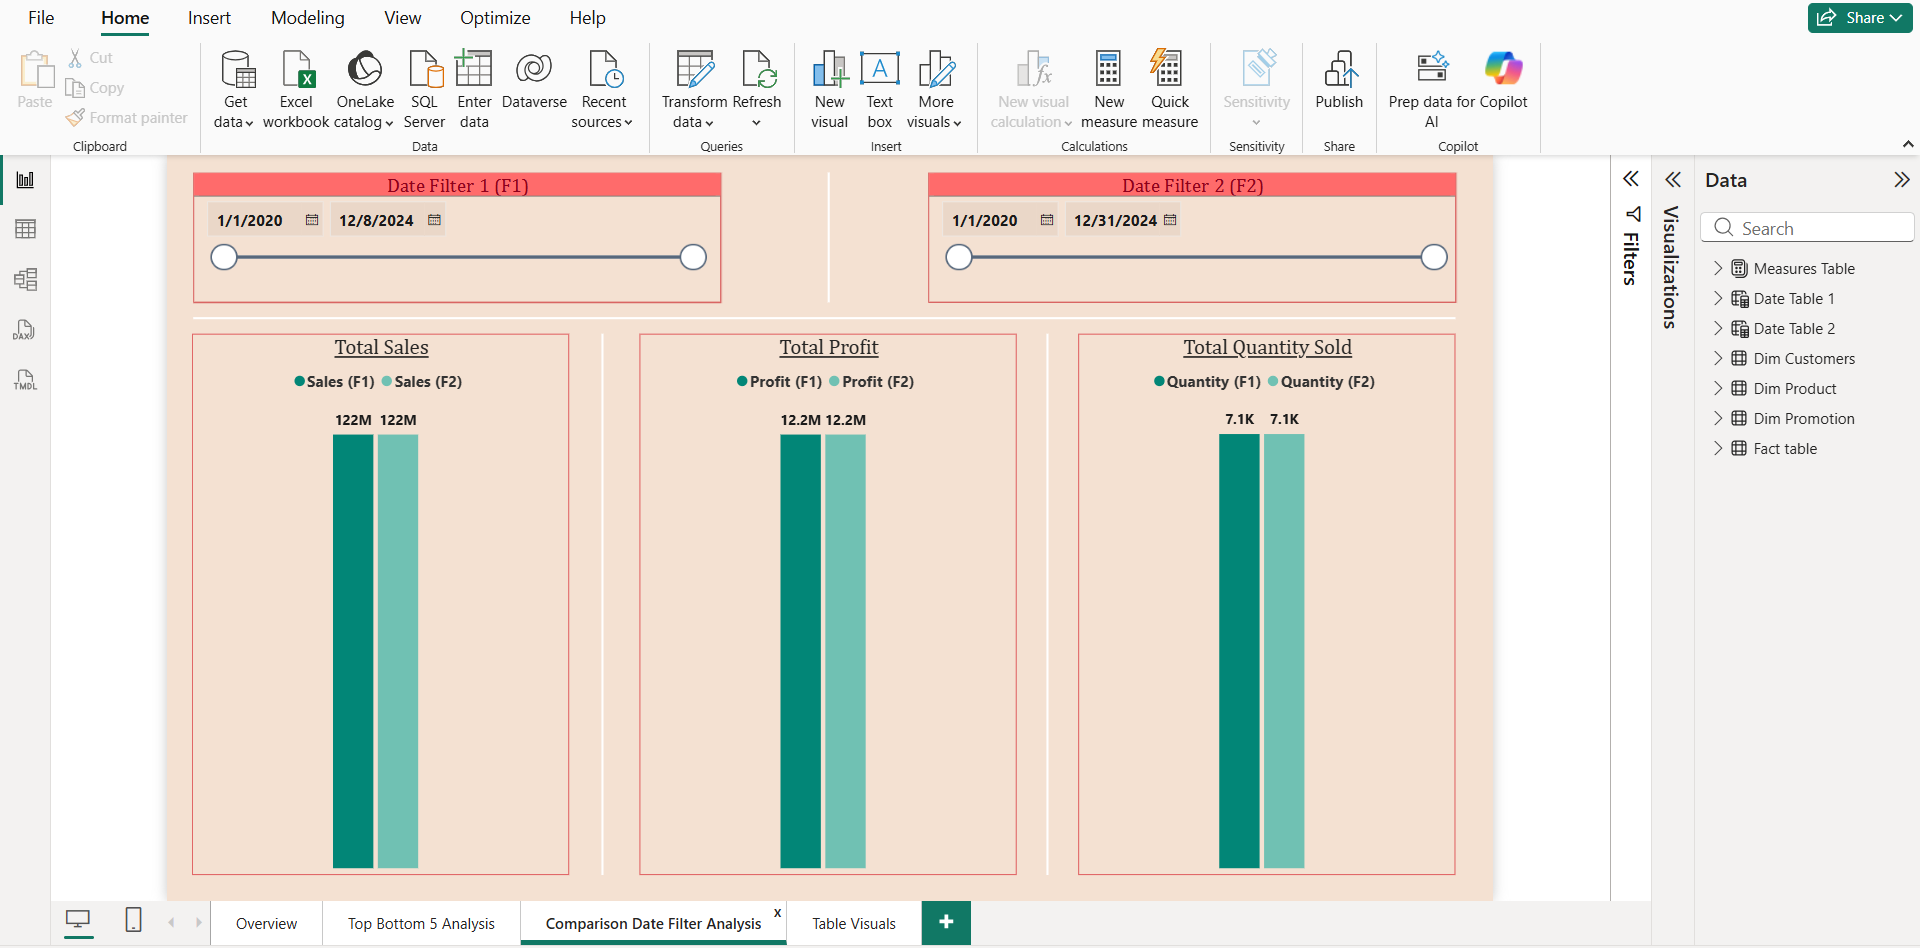

This screenshot's page, from the dashboard's own definition file:
{"tool":"powerbi","page":{"name":"Comparison Date Filter Analysis","canvas":[1280,720],"ordinal":2},"visuals":[{"type":"slicer","title":"Date Filter 2 (F2)","fields":{"Values":["Date Table 2.Date"]},"box":[734.4,17.3,509.8,125.3],"z":1000},{"type":"clusteredColumnChart","title":"Total Sales","fields":{"Y":["Sum(Fact table.Net Sales   )","Date Table 1.Sum of Net Sales"]},"box":[24.5,172.8,364.3,522.7],"z":2000},{"type":"clusteredColumnChart","title":"Total Profit","fields":{"Y":["Sum(Fact table.Profit)","Measures Table.Total Profit"]},"box":[456.5,172.8,364.3,522.7],"z":3000},{"type":"clusteredColumnChart","title":"Total Quantity Sold","fields":{"Y":["Sum(Fact table.Units Sold)","Measures Table.Quantity Sold"]},"box":[879.8,172.8,364.3,522.7],"z":4000},{"type":"shape","box":[25.9,142.6,1218.2,30.2],"z":5000},{"type":"shape","box":[413.3,172.8,13,522.7],"z":6000},{"type":"shape","box":[843.8,172.8,13,522.7],"z":7000},{"type":"shape","box":[632.2,17.3,13,125.3],"z":8000},{"type":"slicer","title":"Date Filter 1 (F1)","fields":{"Values":["Date Table 1.Date"]},"box":[25.9,17.3,509.8,125.3],"z":9000}]}

Visuals, with their boxes on the page's 1280x720 design canvas (x1, y1, x2, y2). These are canvas units, not pixel positions in the 1920x948 screenshot, which may show the page scaled, cropped or inside an application window:
"Date Filter 2 (F2)" slicer: {"x1": 734, "y1": 17, "x2": 1244, "y2": 143}
"Total Sales" clusteredColumnChart: {"x1": 24, "y1": 173, "x2": 389, "y2": 696}
"Total Profit" clusteredColumnChart: {"x1": 456, "y1": 173, "x2": 821, "y2": 696}
"Total Quantity Sold" clusteredColumnChart: {"x1": 880, "y1": 173, "x2": 1244, "y2": 696}
shape: {"x1": 26, "y1": 143, "x2": 1244, "y2": 173}
shape: {"x1": 413, "y1": 173, "x2": 426, "y2": 696}
shape: {"x1": 844, "y1": 173, "x2": 857, "y2": 696}
shape: {"x1": 632, "y1": 17, "x2": 645, "y2": 143}
"Date Filter 1 (F1)" slicer: {"x1": 26, "y1": 17, "x2": 536, "y2": 143}
